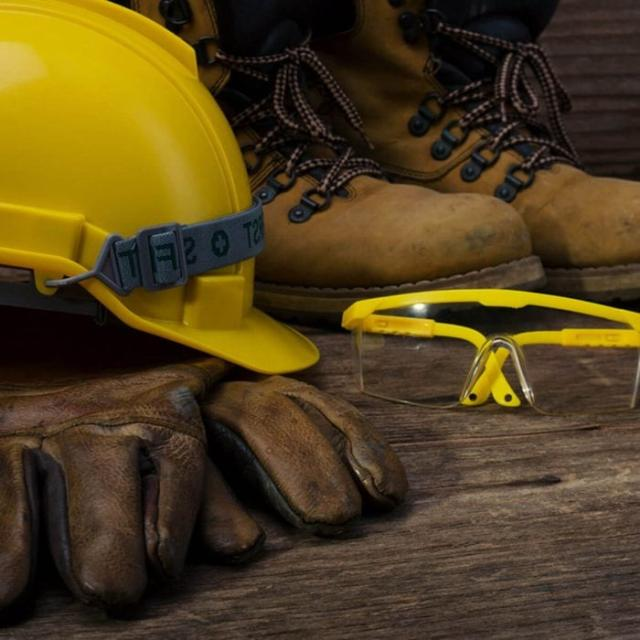goggles: (336, 282, 640, 425)
helmet: (3, 0, 333, 387)
